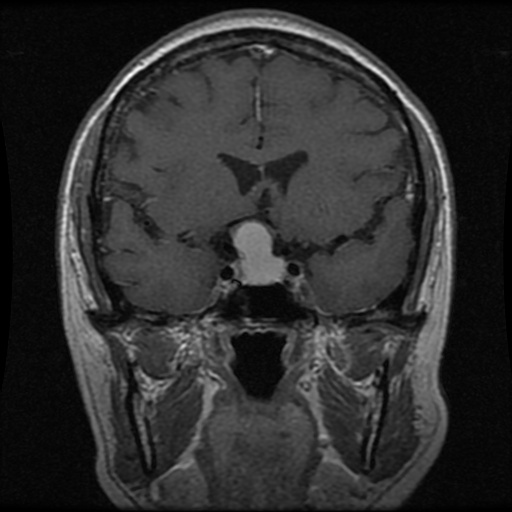pituitary: (231, 219, 285, 285)
